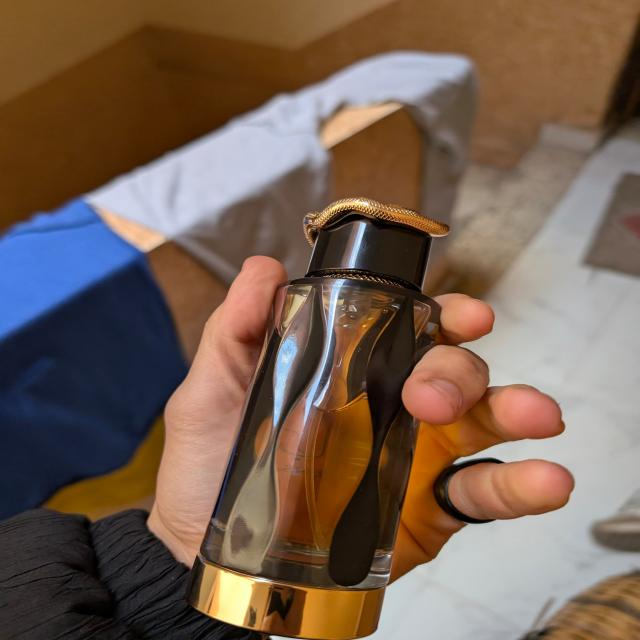Teriaq-Intense: (162, 190, 464, 640)
